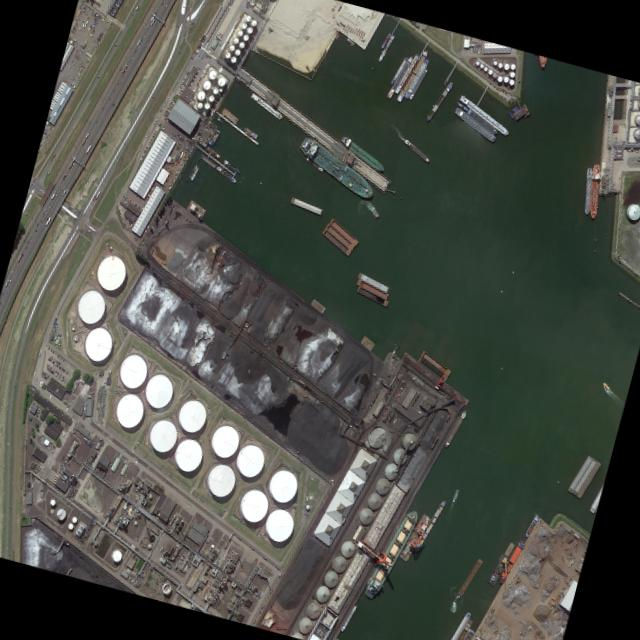large-vehicle: (81, 132, 89, 145), (68, 156, 76, 168), (174, 134, 183, 142), (44, 216, 51, 226), (84, 145, 91, 154), (150, 12, 157, 21), (136, 37, 142, 47), (16, 252, 22, 262), (94, 191, 100, 200), (50, 191, 56, 200), (121, 64, 127, 73), (150, 17, 156, 26), (179, 150, 184, 160), (50, 153, 55, 161), (52, 317, 57, 325), (92, 192, 97, 200), (61, 188, 66, 196), (41, 208, 46, 216), (4, 279, 9, 287), (62, 173, 66, 180), (135, 4, 139, 11), (170, 131, 175, 136), (185, 138, 189, 142)
ship: (360, 506, 422, 603), (296, 132, 378, 202), (457, 93, 510, 137), (338, 133, 386, 174), (394, 48, 429, 104), (413, 498, 447, 553), (453, 106, 497, 143), (398, 513, 431, 562), (496, 537, 526, 585), (386, 54, 414, 100), (403, 55, 431, 101), (424, 80, 454, 122), (393, 52, 421, 95), (442, 408, 468, 450), (457, 557, 483, 597), (567, 454, 593, 494), (571, 457, 597, 497), (576, 460, 601, 499), (249, 92, 283, 120), (321, 227, 352, 257), (328, 217, 359, 247), (466, 108, 499, 136), (419, 349, 451, 377), (324, 223, 355, 251), (416, 355, 448, 382), (486, 552, 510, 587), (588, 162, 601, 220), (355, 278, 389, 300), (402, 137, 430, 163), (356, 285, 389, 307), (356, 271, 389, 293), (408, 67, 429, 101), (290, 196, 323, 216), (450, 610, 472, 640), (389, 55, 409, 86), (377, 34, 395, 63), (340, 604, 358, 633), (583, 167, 593, 216), (589, 486, 606, 514), (214, 165, 237, 184), (456, 617, 474, 640), (524, 515, 539, 538), (221, 106, 239, 125), (304, 156, 324, 173), (199, 153, 217, 169), (222, 159, 240, 174), (207, 128, 221, 147), (310, 298, 326, 314), (359, 335, 375, 351), (205, 145, 221, 160), (241, 126, 258, 140), (379, 32, 392, 50), (189, 165, 200, 181), (455, 100, 469, 112), (462, 628, 475, 640), (188, 164, 198, 179), (370, 207, 380, 219), (451, 489, 459, 504), (538, 54, 546, 68), (346, 37, 355, 47), (453, 593, 461, 604), (522, 111, 531, 120), (602, 382, 610, 391), (507, 111, 515, 120), (522, 103, 528, 113), (512, 107, 520, 114), (511, 105, 519, 112), (216, 117, 223, 123)
small-vehicle: (29, 238, 32, 243), (16, 263, 19, 268), (159, 108, 162, 113), (54, 192, 57, 197), (167, 95, 170, 99), (195, 65, 198, 69), (192, 76, 196, 79), (181, 84, 185, 87), (165, 98, 168, 102), (161, 1, 164, 5), (165, 4, 168, 8), (125, 23, 128, 27), (30, 233, 33, 237), (51, 360, 54, 364), (145, 145, 149, 148), (140, 155, 144, 158), (138, 196, 141, 200), (128, 198, 131, 202), (134, 203, 137, 207), (138, 206, 141, 210), (155, 118, 158, 122), (153, 121, 156, 125), (154, 129, 157, 133), (145, 134, 148, 138), (138, 148, 141, 152), (151, 135, 155, 138), (55, 329, 58, 333), (59, 373, 62, 377), (48, 365, 51, 369), (45, 373, 48, 377), (43, 375, 46, 379), (46, 367, 49, 371), (366, 562, 369, 566), (143, 34, 146, 38), (114, 43, 117, 47), (168, 120, 171, 124), (95, 183, 98, 187), (412, 376, 415, 380), (506, 92, 509, 96), (11, 269, 13, 274), (9, 278, 11, 283), (197, 69, 200, 72), (196, 70, 199, 73), (193, 75, 196, 78), (191, 79, 194, 82), (190, 80, 193, 83), (199, 76, 202, 79), (199, 78, 202, 81), (198, 79, 201, 82), (197, 80, 200, 83), (195, 84, 198, 87), (195, 85, 198, 88), (182, 77, 185, 80), (181, 80, 184, 83), (180, 83, 183, 86), (59, 334, 62, 337), (173, 96, 176, 99), (146, 144, 149, 147), (143, 150, 146, 153), (142, 151, 145, 154), (141, 154, 144, 157), (140, 156, 143, 159), (136, 195, 139, 198), (123, 223, 126, 226), (167, 111, 170, 114), (172, 97, 175, 100), (173, 100, 176, 103), (171, 103, 174, 106), (170, 104, 173, 107), (166, 107, 169, 110), (151, 136, 154, 139), (164, 111, 167, 114), (166, 112, 169, 115), (153, 132, 156, 135), (152, 133, 155, 136), (58, 362, 61, 365), (54, 373, 57, 376), (42, 375, 45, 378), (60, 378, 63, 381), (49, 366, 52, 369), (58, 366, 61, 369), (399, 387, 402, 390), (62, 358, 65, 361), (364, 566, 367, 569), (368, 558, 371, 561), (146, 25, 149, 28), (60, 434, 63, 437), (390, 404, 393, 407), (45, 218, 48, 221), (188, 84, 191, 87), (87, 229, 90, 232), (71, 77, 74, 80), (384, 394, 387, 397), (385, 393, 388, 396), (383, 396, 386, 399), (382, 397, 385, 400), (367, 409, 370, 412), (391, 403, 394, 406), (413, 378, 416, 381), (370, 404, 373, 407), (372, 400, 375, 403), (373, 398, 376, 401), (376, 392, 379, 395), (412, 21, 415, 24), (491, 84, 494, 87), (495, 88, 498, 91), (501, 89, 504, 92), (498, 89, 501, 92), (492, 89, 495, 92), (494, 90, 497, 93), (502, 90, 505, 93), (504, 91, 507, 94), (26, 240, 28, 244), (163, 103, 165, 107), (136, 194, 138, 198), (135, 193, 137, 197), (131, 200, 133, 204), (120, 214, 122, 218), (122, 220, 124, 224), (56, 330, 58, 334), (51, 356, 53, 360), (54, 362, 56, 366), (53, 361, 55, 365), (113, 89, 115, 93), (107, 169, 109, 173), (70, 76, 72, 80), (112, 103, 114, 107), (121, 74, 123, 78), (5, 287, 7, 291), (418, 380, 420, 384), (419, 381, 421, 385), (414, 21, 416, 25), (505, 91, 507, 95), (198, 57, 200, 60), (198, 67, 200, 70), (195, 72, 198, 74), (192, 78, 195, 80), (197, 81, 199, 84), (196, 83, 199, 85), (180, 87, 183, 89), (179, 85, 181, 88), (178, 92, 181, 94), (7, 442, 9, 445), (145, 147, 148, 149), (144, 149, 146, 152), (134, 203, 136, 206), (137, 206, 139, 209), (118, 209, 120, 212), (119, 212, 121, 215), (148, 142, 150, 145), (150, 138, 152, 141), (171, 99, 174, 101), (170, 100, 173, 102), (170, 101, 172, 104), (168, 104, 170, 107), (167, 106, 169, 109), (169, 106, 172, 108), (169, 107, 171, 110), (165, 110, 168, 112), (163, 113, 165, 116), (166, 113, 168, 116), (47, 357, 49, 360), (56, 361, 58, 364), (56, 325, 58, 328), (50, 359, 52, 362), (61, 375, 63, 378), (49, 369, 51, 372), (56, 364, 58, 367), (57, 364, 59, 367), (47, 364, 49, 367), (36, 223, 38, 226), (44, 372, 46, 375), (50, 370, 52, 373), (51, 370, 53, 373), (63, 380, 65, 383), (74, 367, 76, 370), (63, 369, 65, 372), (62, 376, 64, 379), (47, 347, 49, 350), (50, 349, 52, 352), (52, 350, 54, 353), (57, 354, 59, 357), (60, 356, 62, 359), (58, 376, 60, 379), (56, 371, 58, 374), (48, 376, 50, 379), (52, 368, 54, 371), (48, 333, 50, 336), (58, 334, 60, 337), (57, 333, 59, 336), (25, 246, 27, 249), (45, 377, 47, 380), (44, 376, 46, 379), (363, 568, 365, 571), (47, 375, 49, 378), (48, 369, 50, 372), (57, 372, 59, 375), (55, 360, 57, 363), (35, 229, 37, 232), (40, 220, 42, 223), (133, 237, 135, 240), (133, 461, 135, 464), (128, 222, 130, 225), (151, 94, 153, 97), (47, 206, 49, 209), (45, 211, 47, 214), (64, 177, 66, 180), (72, 162, 74, 165), (95, 120, 97, 123), (101, 106, 103, 109), (108, 97, 110, 100), (117, 82, 119, 85), (97, 75, 99, 78), (134, 50, 136, 53), (144, 45, 146, 48), (125, 68, 127, 71), (131, 56, 133, 59), (138, 45, 140, 48), (131, 14, 134, 16), (166, 119, 168, 122), (1, 292, 3, 295), (386, 391, 388, 394), (384, 399, 387, 401), (386, 396, 389, 398), (388, 392, 391, 394), (384, 395, 386, 398), (386, 407, 389, 409), (385, 408, 388, 410), (385, 409, 387, 412), (382, 413, 385, 415), (382, 414, 384, 417), (416, 379, 418, 382), (417, 380, 419, 383), (368, 407, 370, 410), (380, 386, 382, 389), (369, 406, 371, 409), (371, 402, 374, 404), (373, 399, 375, 402), (375, 396, 377, 399), (375, 395, 378, 397), (378, 391, 380, 394), (378, 390, 381, 392), (496, 92, 498, 95), (501, 95, 503, 98), (502, 96, 505, 98), (504, 97, 506, 100), (195, 73, 197, 75), (149, 141, 151, 143), (169, 102, 171, 104), (165, 115, 167, 117), (65, 372, 67, 374), (50, 356, 52, 358), (62, 379, 64, 381), (62, 369, 64, 371), (61, 368, 63, 370), (59, 367, 61, 369), (135, 239, 137, 241), (302, 389, 304, 391), (85, 139, 87, 141), (180, 90, 182, 92), (385, 398, 387, 400), (386, 397, 388, 399), (388, 393, 390, 395), (384, 412, 386, 414), (371, 403, 373, 405), (379, 389, 381, 391), (489, 83, 491, 85), (493, 86, 495, 88), (45, 373, 46, 376), (52, 371, 53, 374), (61, 345, 62, 348), (22, 253, 23, 256), (42, 371, 43, 374), (55, 370, 56, 373), (146, 243, 147, 246), (169, 93, 170, 96), (168, 120, 169, 123), (53, 362, 54, 364), (55, 329, 56, 331), (0, 302, 1, 304), (49, 359, 50, 361), (13, 386, 14, 388), (103, 382, 105, 383), (223, 68, 225, 69)
storage-tank: (112, 349, 153, 396), (90, 251, 131, 297), (139, 368, 180, 413), (70, 285, 111, 329), (204, 419, 244, 463), (168, 433, 207, 478), (231, 437, 270, 482), (200, 460, 241, 502), (259, 504, 299, 546), (79, 323, 117, 365), (235, 486, 274, 526), (144, 416, 182, 457), (265, 466, 303, 505), (174, 395, 210, 436), (112, 391, 148, 430), (365, 424, 389, 452), (399, 431, 419, 452), (329, 553, 349, 574), (381, 461, 401, 481), (390, 446, 409, 467), (356, 506, 375, 527), (338, 538, 357, 558), (313, 584, 332, 604), (304, 600, 323, 620), (374, 476, 392, 497), (321, 570, 340, 589), (366, 491, 384, 511), (296, 615, 314, 635), (624, 202, 640, 222), (110, 548, 124, 563), (55, 507, 67, 521), (160, 582, 172, 596), (214, 75, 227, 87), (200, 78, 212, 91), (194, 89, 207, 101), (206, 69, 218, 81), (238, 21, 248, 31), (222, 50, 231, 60), (244, 25, 253, 35), (501, 61, 510, 71), (632, 128, 640, 139), (226, 43, 235, 52), (210, 86, 219, 95), (206, 94, 215, 103), (202, 101, 211, 110), (230, 36, 239, 45), (234, 29, 243, 38), (242, 14, 251, 23), (248, 18, 257, 27), (507, 70, 516, 79), (148, 534, 156, 544), (633, 114, 640, 125), (233, 48, 242, 56), (229, 55, 237, 64), (241, 33, 249, 42), (70, 515, 78, 524), (495, 74, 503, 83), (237, 41, 245, 49), (195, 101, 203, 109), (66, 522, 74, 530), (48, 498, 56, 506), (507, 78, 515, 86), (141, 537, 148, 546), (502, 75, 509, 84), (486, 68, 493, 76), (491, 72, 498, 79), (509, 63, 516, 70), (496, 62, 503, 69), (491, 60, 498, 66), (636, 98, 640, 108), (474, 60, 480, 66), (478, 63, 484, 69), (482, 66, 488, 72), (145, 531, 150, 537), (304, 504, 310, 509), (217, 87, 223, 92), (147, 543, 152, 549), (148, 493, 152, 499), (133, 520, 137, 526), (71, 326, 75, 331), (73, 337, 77, 341)
